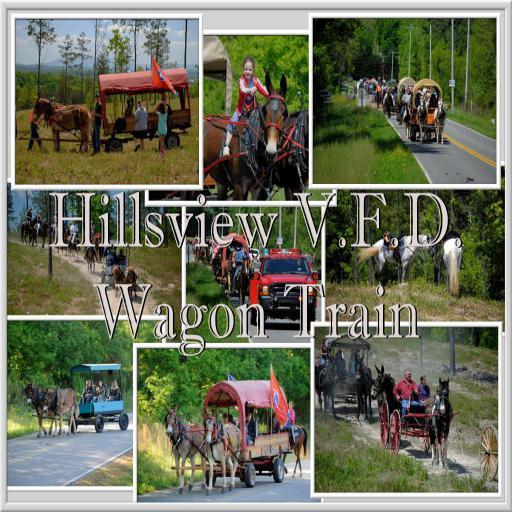horse: (203, 66, 289, 198), (16, 218, 136, 305), (245, 110, 310, 198), (355, 233, 436, 288), (164, 402, 207, 492), (32, 92, 92, 151), (202, 406, 240, 496), (370, 364, 403, 449), (268, 411, 308, 479), (425, 377, 451, 470), (39, 385, 80, 440), (24, 378, 58, 440), (315, 352, 339, 420), (442, 234, 464, 300), (354, 352, 372, 426), (234, 258, 250, 306), (416, 94, 430, 144), (434, 98, 446, 146), (125, 268, 138, 302), (112, 266, 124, 302)
